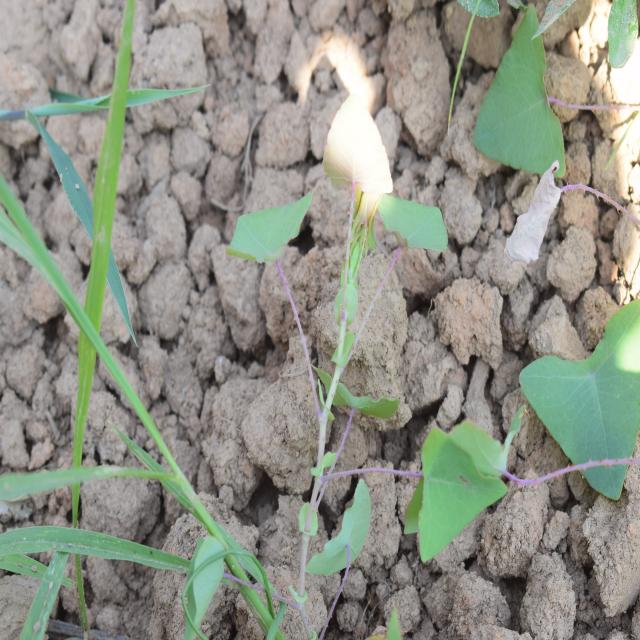Asiatic_Smartweed: (224, 166, 430, 344), (520, 282, 638, 494), (390, 404, 534, 550), (473, 26, 584, 180)
